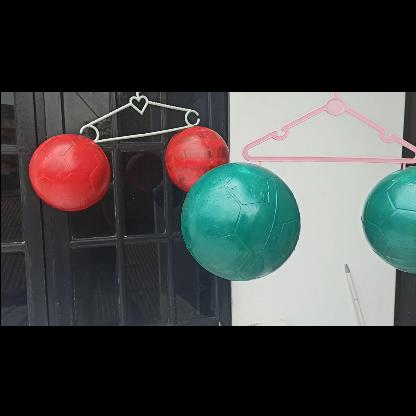red_ball: (29, 131, 109, 211)
